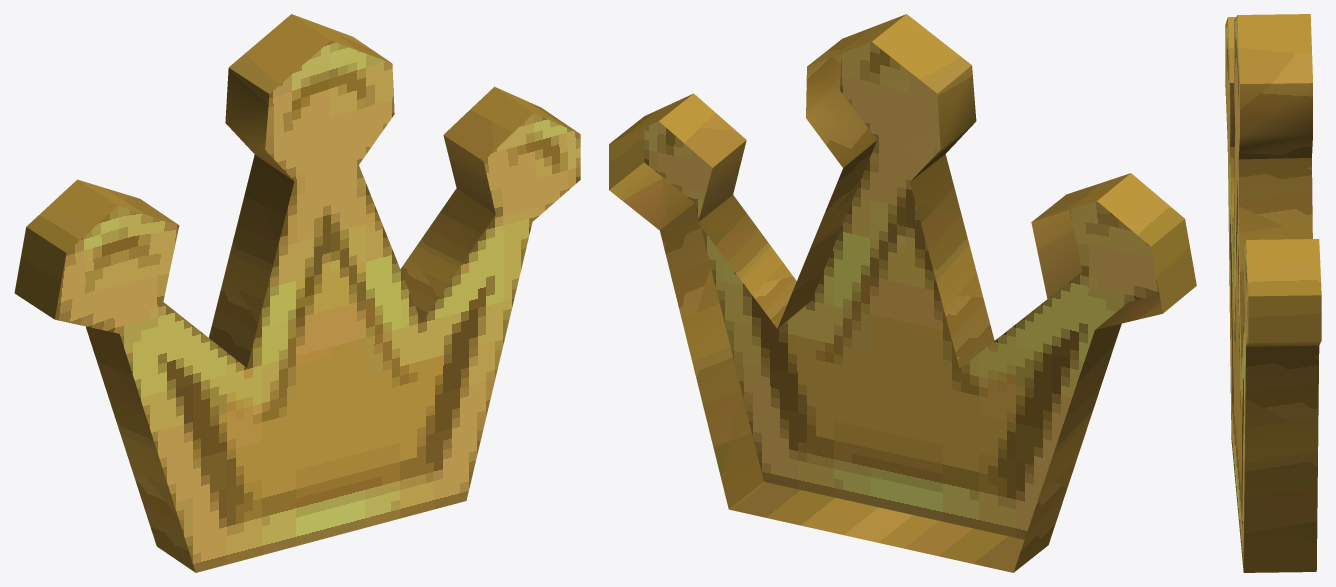
The model's file is object_44_lev2.glb.
3 views of the same model, side by side, from view 1: azimuth 30°, elevation 25°; view 2: azimuth 150°, elevation 25°; view 3: azimuth 270°, elevation 25° (orthographic).
Visible parts, largest first — view 1: object_44_lev2; view 2: object_44_lev2; view 3: object_44_lev2.
Boxes of the visible parts, left/top/right/bottom form: object_44_lev2: left=14, top=14, right=580, bottom=572; object_44_lev2: left=609, top=14, right=1196, bottom=572; object_44_lev2: left=1225, top=14, right=1321, bottom=572.
Bounding box in the file's own units: 1.69 × 1.48 × 0.264.
Materials: 1 (1 with a texture image).
